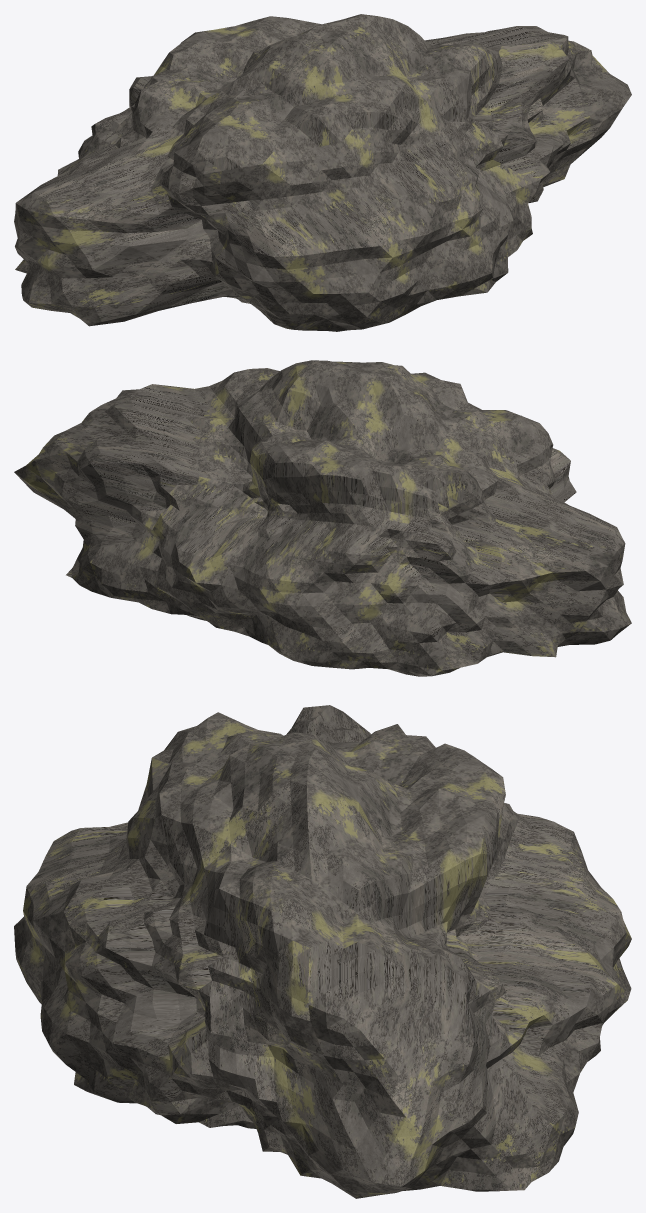
The model's file is rock_d.glb.
3 renders of one model, top to bottom at view 1: azimuth 30°, elevation 25°; view 2: azimuth 150°, elevation 25°; view 3: azimuth 270°, elevation 25°, orthographic. The views are drawn at different scales.
Visible parts, largest first — view 1: rock_d; view 2: rock_d; view 3: rock_d.
Part boxes in pixels (box(x1,y1,x2,y2)): rock_d: box(14, 14, 631, 331); rock_d: box(14, 360, 631, 676); rock_d: box(14, 705, 631, 1198).
Size of the model in its own units: 12.03 by 4.39 by 7.71.
1 material, 1 textured.
